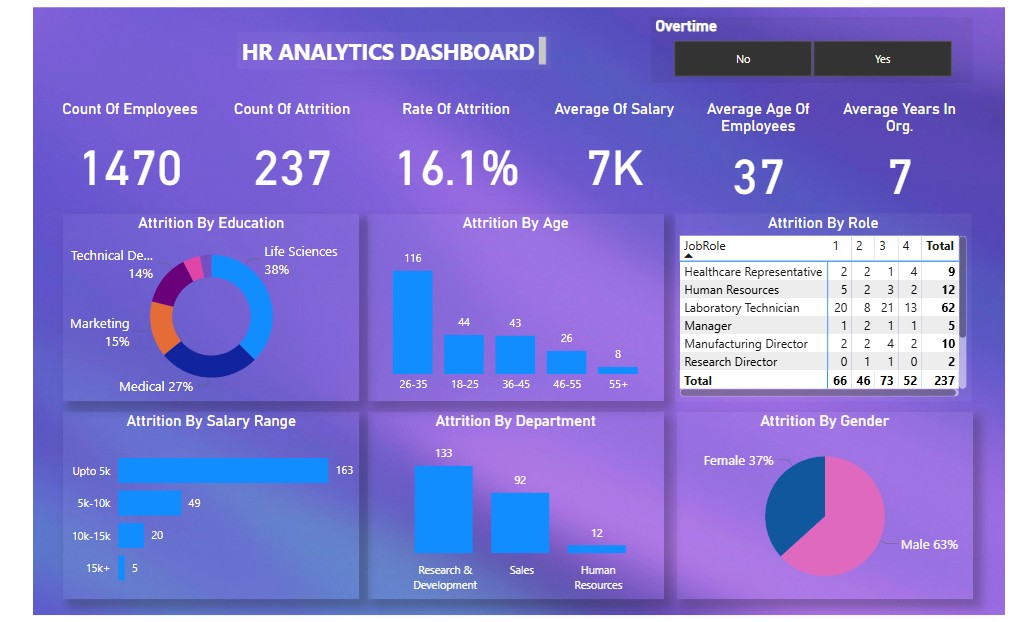

Layout of this report page (visuals, bound fields, positions):
{"tool":"powerbi","page":{"name":"Page 1","canvas":[1280,720],"ordinal":0},"visuals":[{"type":"card","title":"Count Of Attrition","fields":{"Values":["Sum(HR_Analytics.AttritionCount)"]},"box":[291.6,121.4,192.5,117.7],"z":0},{"type":"card","title":"Count Of Employees","fields":{"Values":["CountNonNull(HR_Analytics.EmpID)"]},"box":[123,121.4,168.6,117.7],"z":1000},{"type":"card","title":"Rate Of Attrition","fields":{"Values":["HR_Analytics.AttritionRate"]},"box":[484.1,121.4,173.4,117.7],"z":2000},{"type":"card","title":"Average Of Salary","fields":{"Values":["Avg(HR_Analytics.MonthlyIncome)"]},"box":[657.5,121.4,178.1,117.7],"z":3000},{"type":"card","title":"Average Age Of Employees","fields":{"Values":["Avg(HR_Analytics.Age)"]},"box":[816.5,121.4,178.1,117.7],"z":4000},{"type":"card","title":"Average Years In Org.","fields":{"Values":["Avg(HR_Analytics.YearsAtCompany)"]},"box":[980.3,121.4,165.4,117.7],"z":5000},{"type":"donutChart","title":"Attrition By Education","fields":{"Y":["Sum(HR_Analytics.AttritionCount)"],"Category":["HR_Analytics.EducationField"]},"box":[133.6,248.1,329.3,208.4],"z":6000},{"type":"columnChart","title":"Attrition By Age","fields":{"Category":["HR_Analytics.AgeGroup"],"Y":["Sum(HR_Analytics.AttritionCount)"]},"box":[472.4,248.1,329.3,208.4],"z":7000},{"type":"pivotTable","title":"Attrition By Role","fields":{"Rows":["HR_Analytics.JobRole"],"Columns":["HR_Analytics.JobSatisfaction"],"Values":["Sum(HR_Analytics.AttritionCount)"]},"box":[812.8,248.1,329.3,208.4],"z":8000},{"type":"barChart","title":"Attrition By Salary Range","fields":{"Category":["HR_Analytics.SalarySlab"],"Y":["Sum(HR_Analytics.AttritionCount)"]},"box":[133.6,468.7,329.3,208.4],"z":9000},{"type":"columnChart","title":"Attrition By Department","fields":{"Y":["Sum(HR_Analytics.AttritionCount)"],"Category":["HR_Analytics.Department"]},"box":[472.4,468.7,329.3,208.4],"z":10000},{"type":"pieChart","title":"Attrition By Gender","fields":{"Category":["HR_Analytics.Gender"],"Y":["Sum(HR_Analytics.AttritionCount)"]},"box":[814.4,468.7,329.3,208.4],"z":11000},{"type":"slicer","title":"Overtime","fields":{"Values":["HR_Analytics.OverTime"]},"box":[787.4,30.2,357.9,73.2],"z":12000},{"type":"textbox","box":[326.1,46.1,348.3,41.4],"z":13000}]}

Visuals, with their boxes on the page's 1280x720 design canvas (x1, y1, x2, y2). These are canvas units, not pixel positions in the 1036x622 screenshot, which may show the page scaled, cropped or inside an application window:
"Count Of Attrition" card: select_region(292, 121, 484, 239)
"Count Of Employees" card: select_region(123, 121, 292, 239)
"Rate Of Attrition" card: select_region(484, 121, 658, 239)
"Average Of Salary" card: select_region(658, 121, 836, 239)
"Average Age Of Employees" card: select_region(816, 121, 995, 239)
"Average Years In Org." card: select_region(980, 121, 1146, 239)
"Attrition By Education" donutChart: select_region(134, 248, 463, 456)
"Attrition By Age" columnChart: select_region(472, 248, 802, 456)
"Attrition By Role" pivotTable: select_region(813, 248, 1142, 456)
"Attrition By Salary Range" barChart: select_region(134, 469, 463, 677)
"Attrition By Department" columnChart: select_region(472, 469, 802, 677)
"Attrition By Gender" pieChart: select_region(814, 469, 1144, 677)
"Overtime" slicer: select_region(787, 30, 1145, 103)
textbox: select_region(326, 46, 674, 88)
